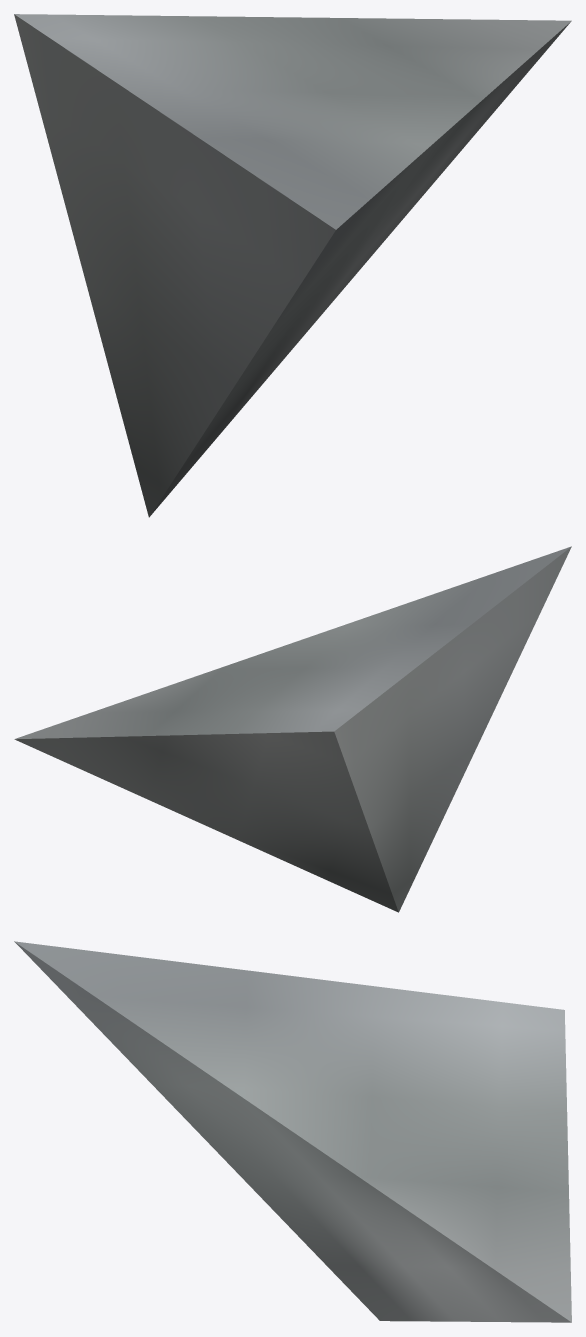
3 renders of one model, top to bottom at view 1: azimuth 30°, elevation 25°; view 2: azimuth 150°, elevation 25°; view 3: azimuth 270°, elevation 25°, orthographic. The views are drawn at different scales.
Bounding box in the file's own units: 0.0524 × 0.0395 × 0.0558.
1 material, 1 textured.
